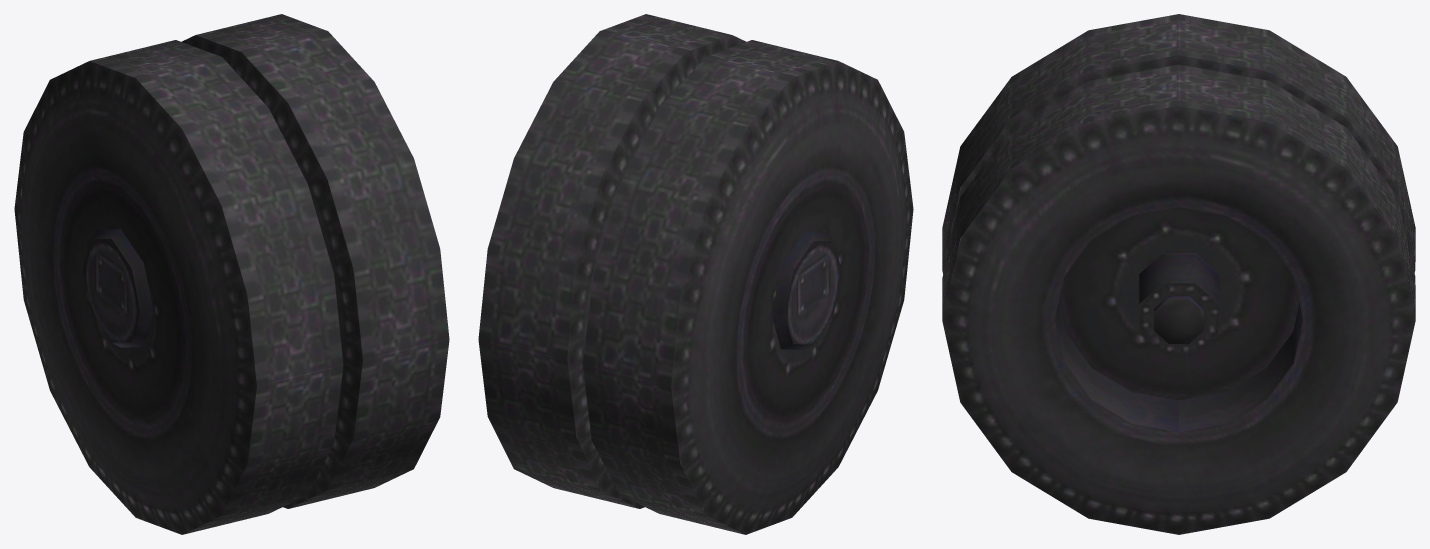
The model's file is Zil130 Wheel RL.fbx.
3 views of the same model, side by side, from view 1: azimuth 30°, elevation 25°; view 2: azimuth 150°, elevation 25°; view 3: azimuth 270°, elevation 25° (orthographic). The views are drawn at different scales.
Visible parts, largest first — view 1: Zil130 Wheel RL; view 2: Zil130 Wheel RL; view 3: Zil130 Wheel RL.
Part boxes in pixels (x1=…): Zil130 Wheel RL: x1=14, y1=14, x2=449, y2=534; Zil130 Wheel RL: x1=478, y1=14, x2=913, y2=534; Zil130 Wheel RL: x1=942, y1=14, x2=1415, y2=534.
Size of the model in its own units: 0.5924 by 1.09 by 1.09.
